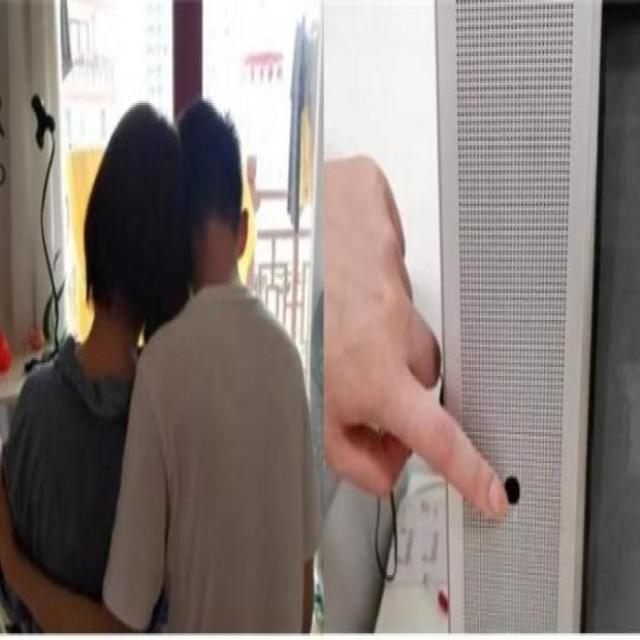hidden camera: (498, 459, 525, 522)
